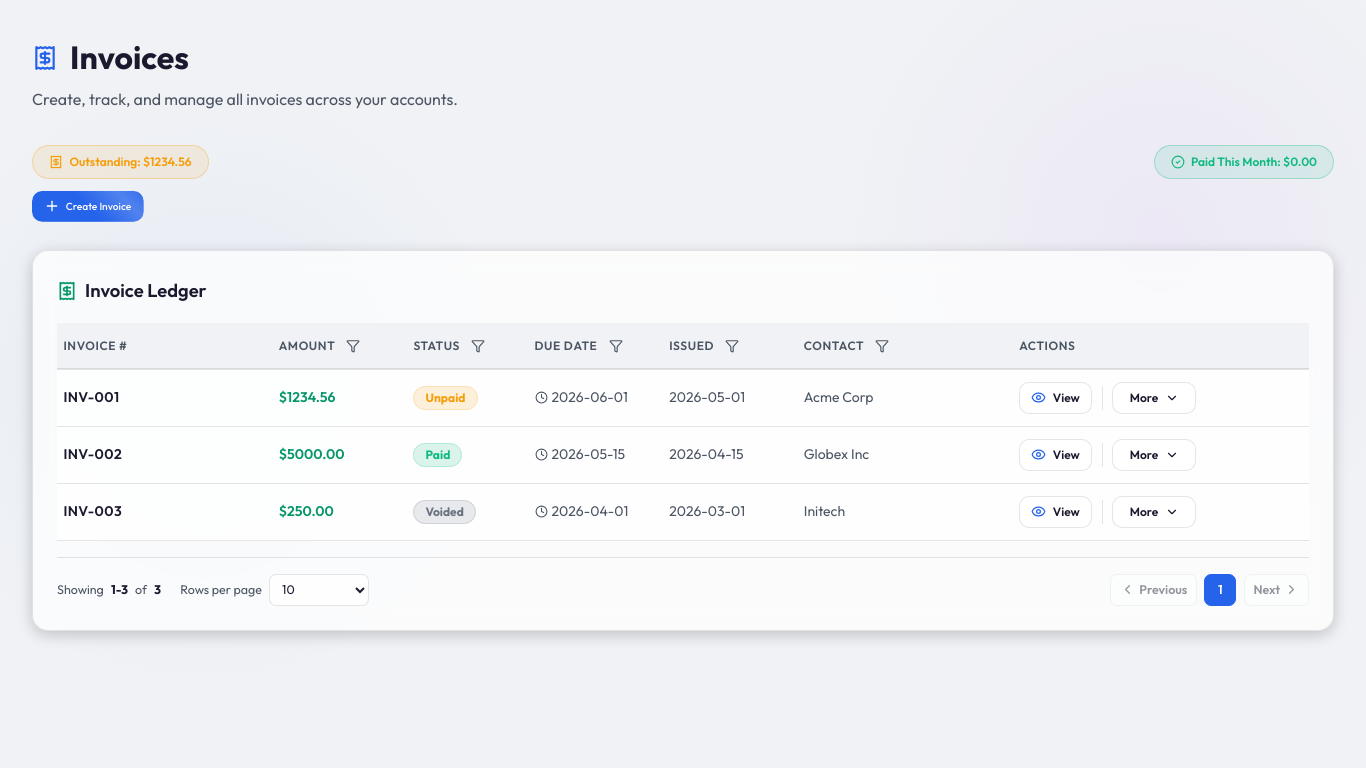
Test: <Invoices /> — page surface › UNPAID rows show Mark Paid; PAID rows hide Mark Paid; VOIDED rows hide Void + Recur
Expected: the text "INV-001" is shown, [63, 388, 120, 406]
Step 1. Click the button with aria-label "More actions for invoice INV-001" → click(1154, 398), box [1112, 382, 1196, 414]
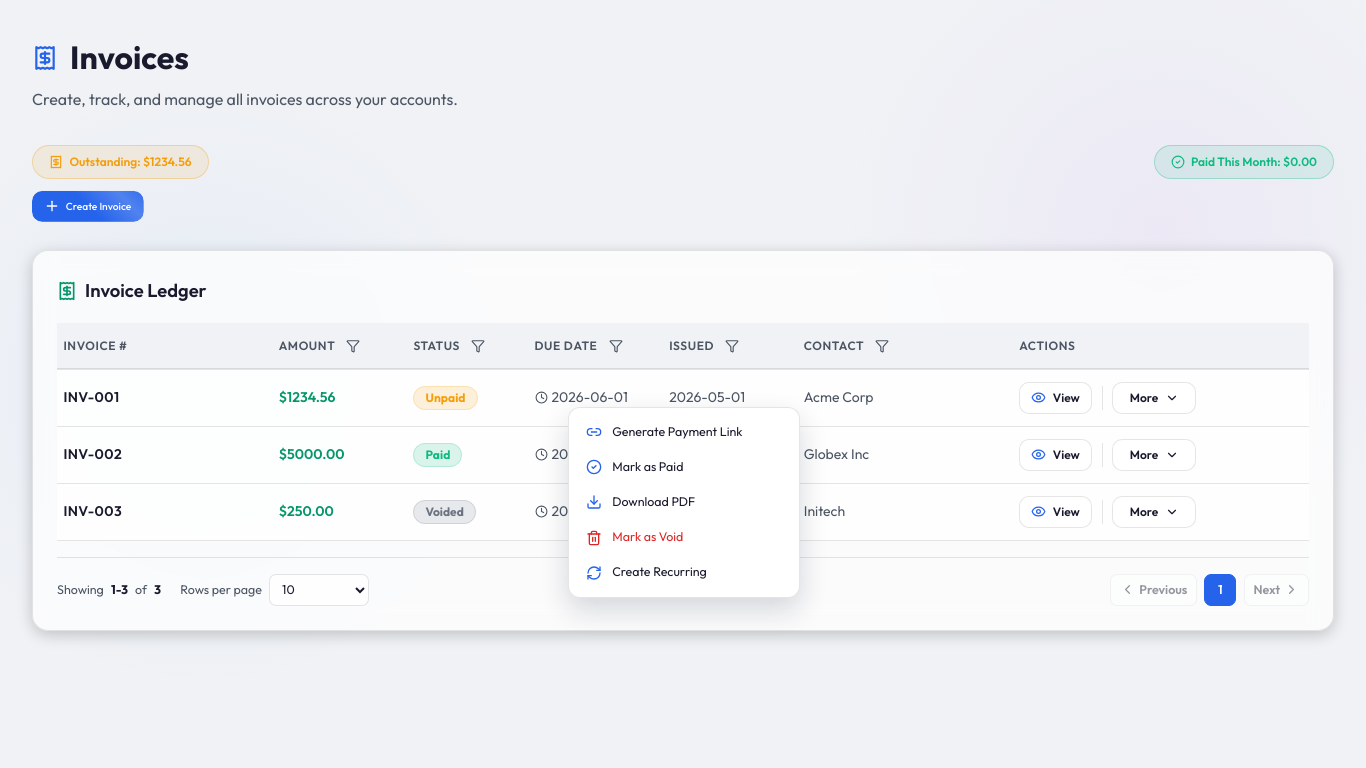
Now the menu item with aria-label "Mark invoice INV-001 as paid" is shown, box [575, 450, 793, 485]
Now the menu item with aria-label "Void invoice INV-001" is shown, box [575, 520, 793, 555]
Step 2. Click the button "More" in the row of "INV-002" → click(1154, 454), box [1112, 438, 1196, 470]
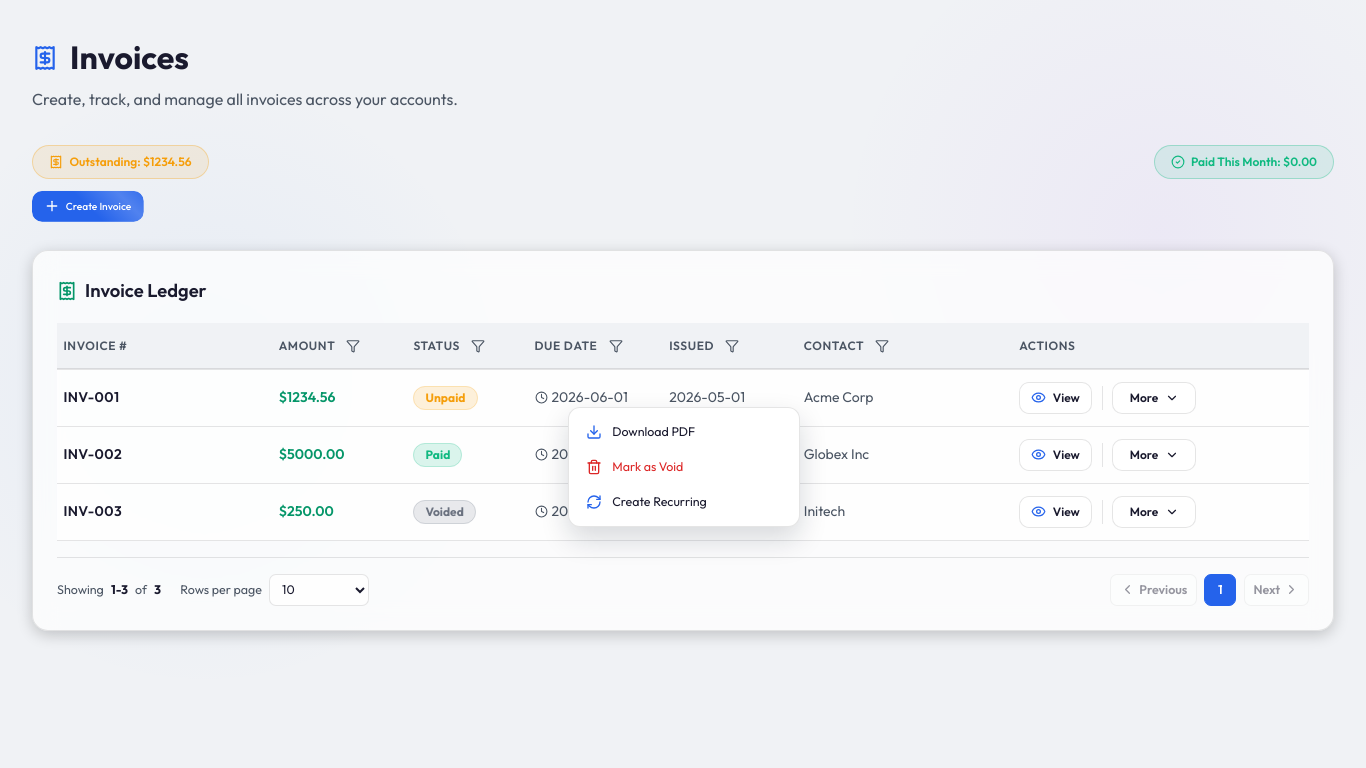
Now the menu item with aria-label "Void invoice INV-002" is shown, box [575, 450, 793, 485]
Step 3. Click the button "More" in the row of "INV-003" → click(1154, 512), box [1112, 496, 1196, 528]
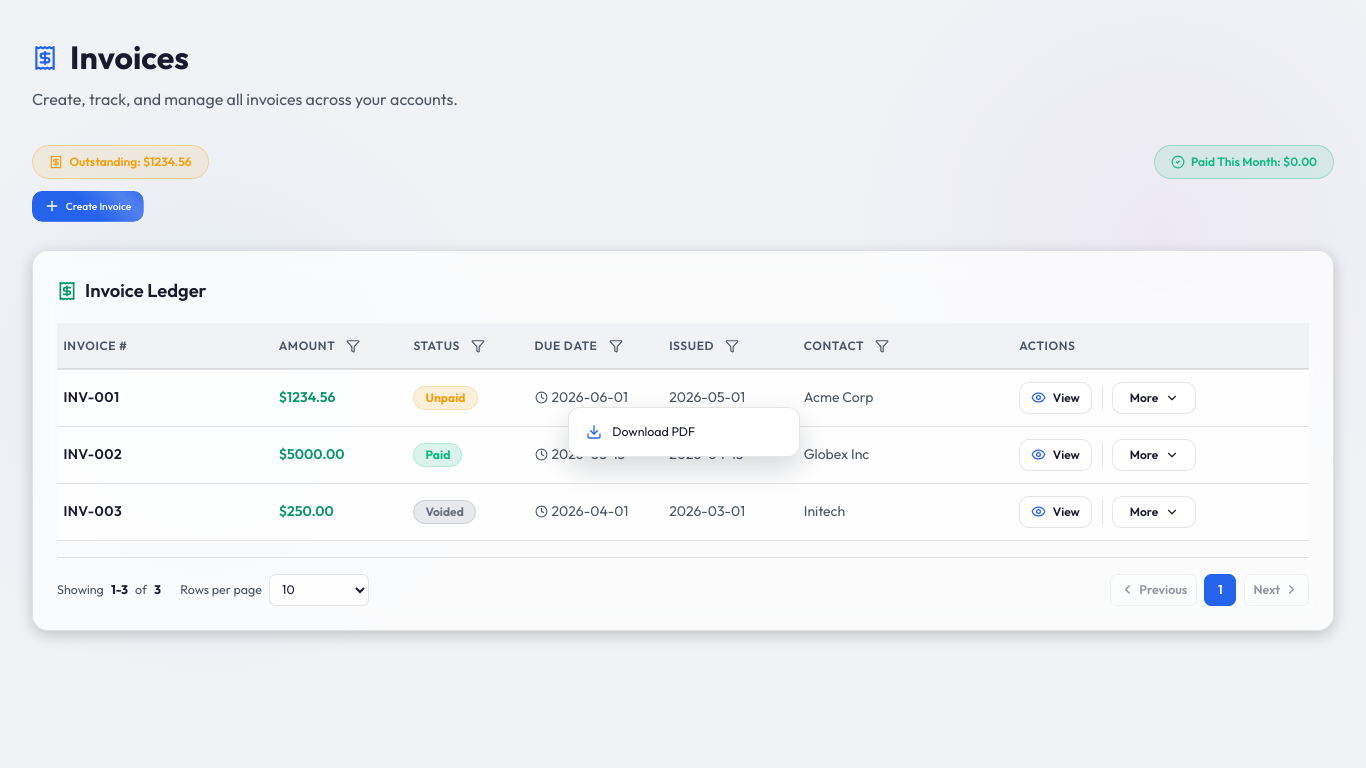
Now the menu item "Create Recurring" is gone
